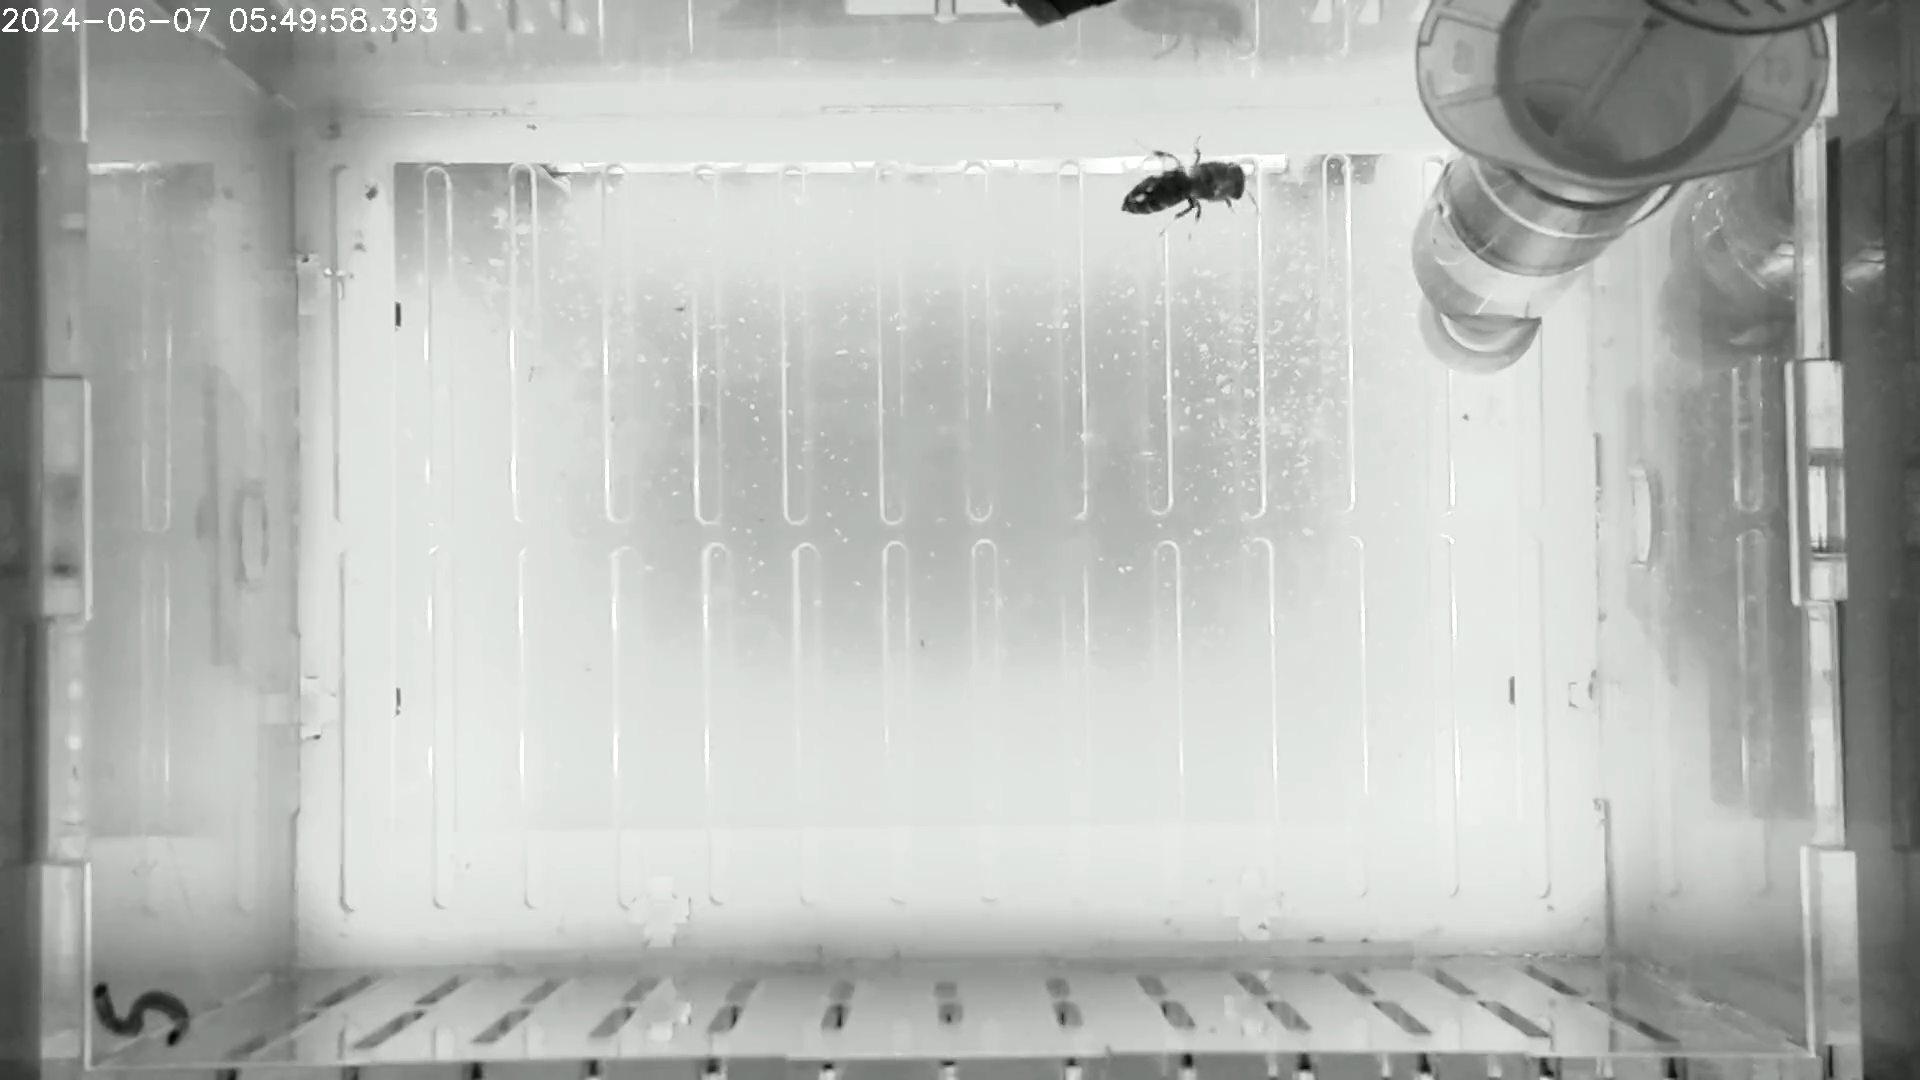bee: (1114, 129, 1272, 250)
feeder: (1403, 138, 1633, 331)
